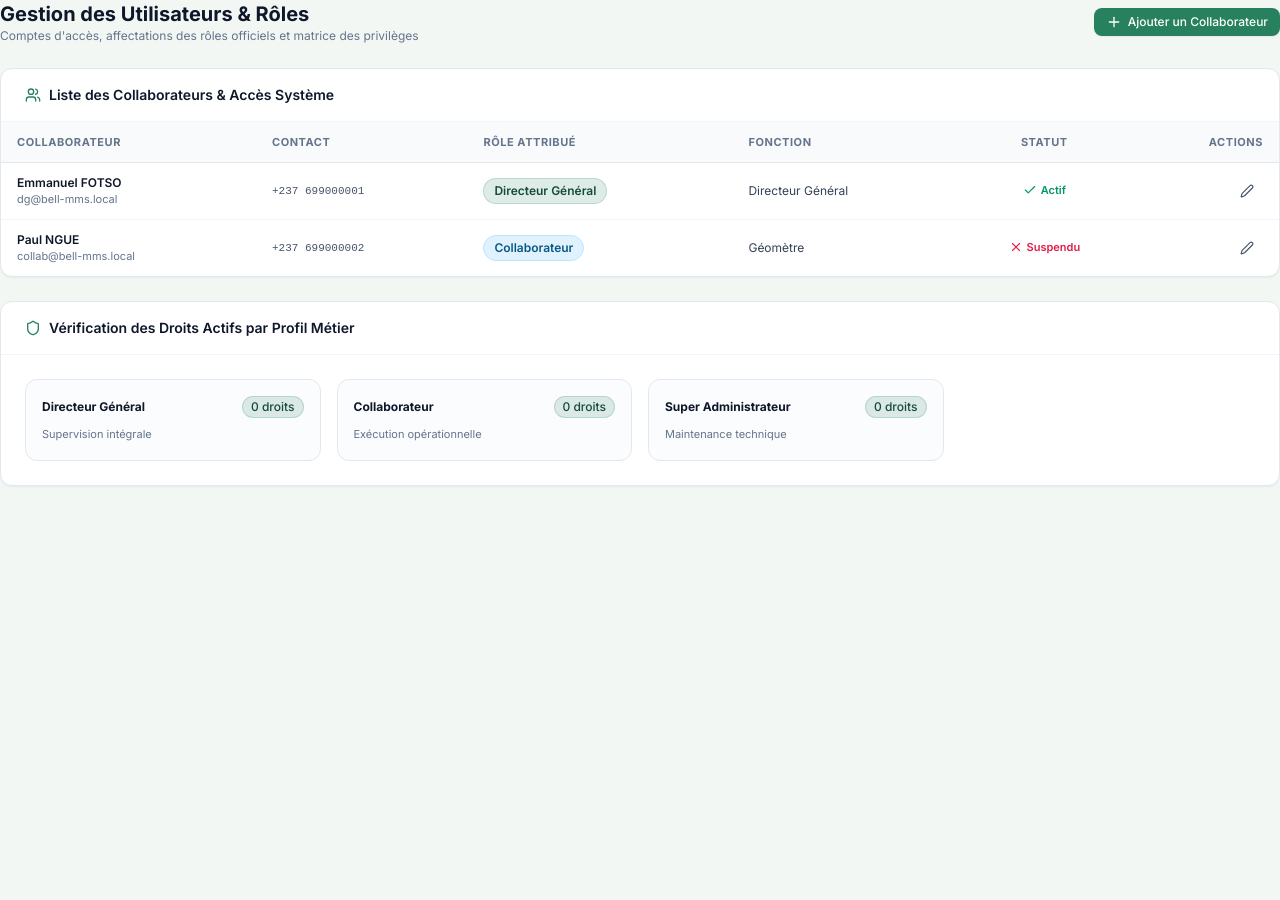
UsersPage en mode connecté › laisse saisir une nouvelle adresse email en mode connecté (028 : la colonne existe)
The image size is (1280, 900).
Later steps or results of the test are not shown.
expect the text "Emmanuel FOTSO" is shown: met, box 17,175 -> 122,190
Click the button named "Modifier les droits" in the row of "Emmanuel". click: coordinates (1247, 191)
box: 1231,175 -> 1263,207
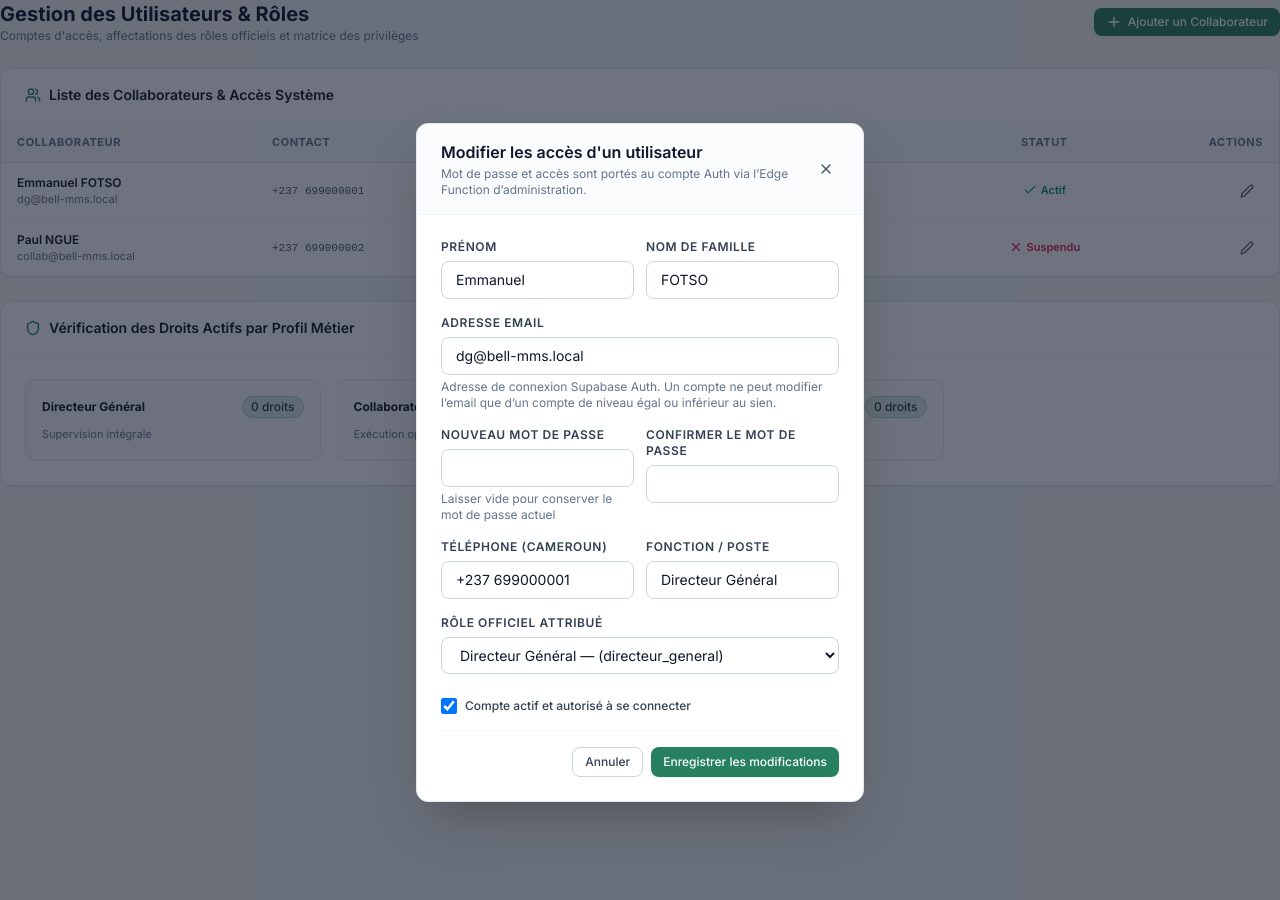
expect the field labelled "Adresse Email" is enabled: met, box 441,336 -> 839,374
